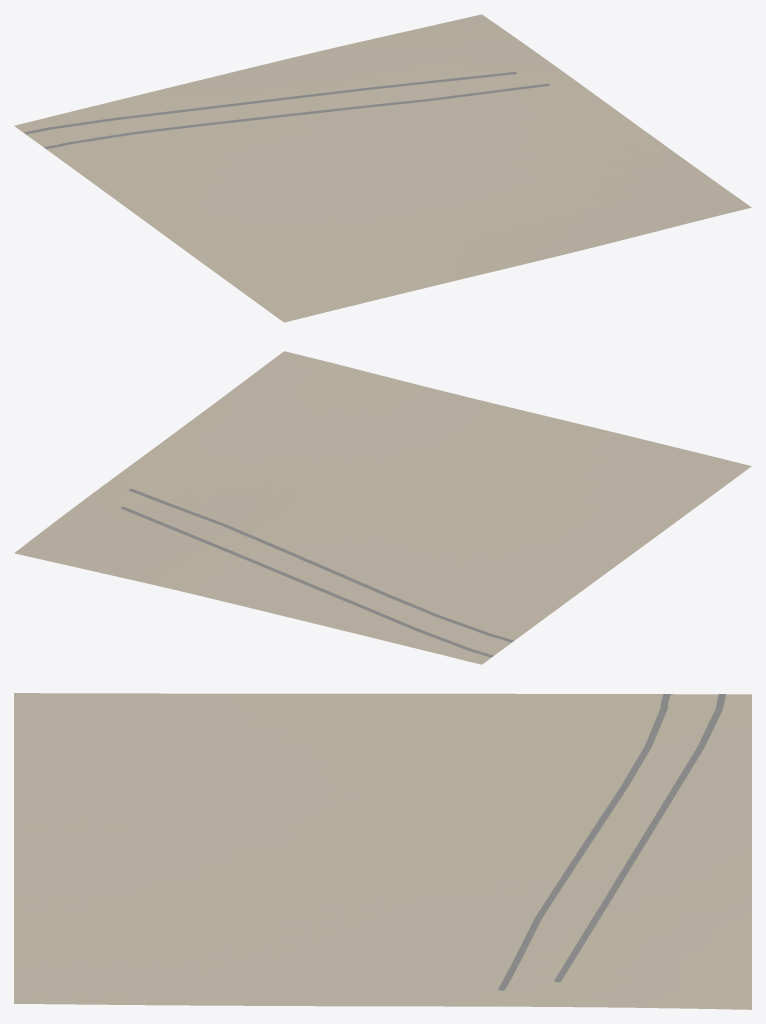
The model's file is bolak_13_-1.glb.
3 renders of one model, top to bottom at view 1: azimuth 30°, elevation 25°; view 2: azimuth 150°, elevation 25°; view 3: azimuth 270°, elevation 25°, orthographic. The views are drawn at different scales.
Visible parts, largest first — view 1: Yer_Tuproq-col, Yol_Mahalla-col; view 2: Yer_Tuproq-col, Yol_Mahalla-col; view 3: Yer_Tuproq-col, Yol_Mahalla-col.
Boxes of the visible parts, x1=… form: Yer_Tuproq-col: x1=14, y1=14, x2=751, y2=322; Yol_Mahalla-col: x1=24, y1=72, x2=549, y2=148; Yer_Tuproq-col: x1=14, y1=351, x2=751, y2=664; Yol_Mahalla-col: x1=121, y1=488, x2=513, y2=657; Yer_Tuproq-col: x1=14, y1=693, x2=751, y2=1009; Yol_Mahalla-col: x1=498, y1=694, x2=725, y2=990.
Size of what is drawn, in the model's own units: 400 by 3.64 by 400.
